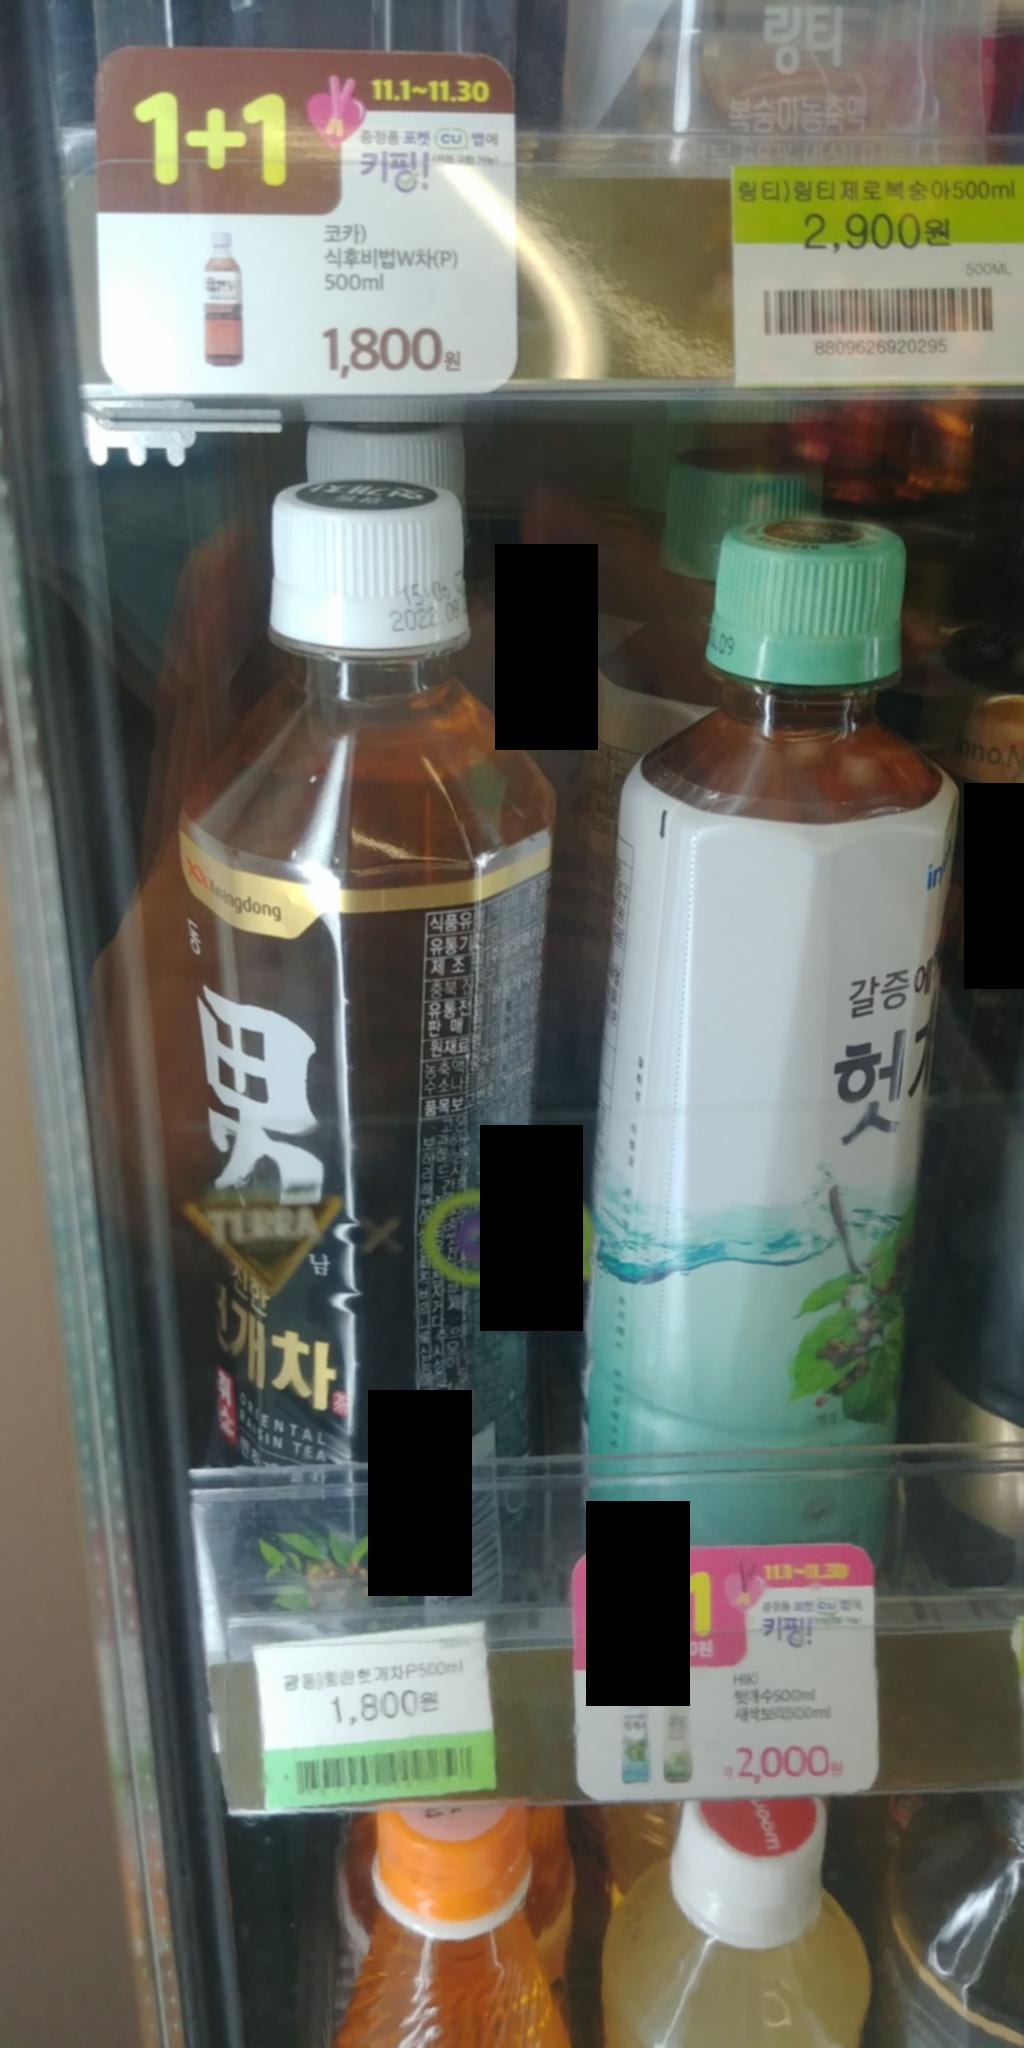heotgaecha: (182, 468, 581, 1631)
